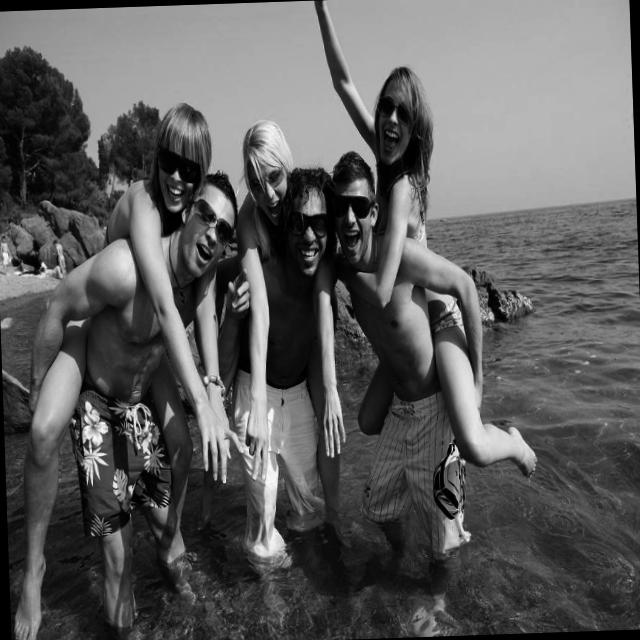person: (4, 100, 262, 640), (314, 102, 551, 638), (360, 56, 534, 461), (212, 131, 354, 604), (105, 110, 208, 224), (246, 114, 301, 233), (51, 232, 68, 288), (0, 222, 9, 296)
